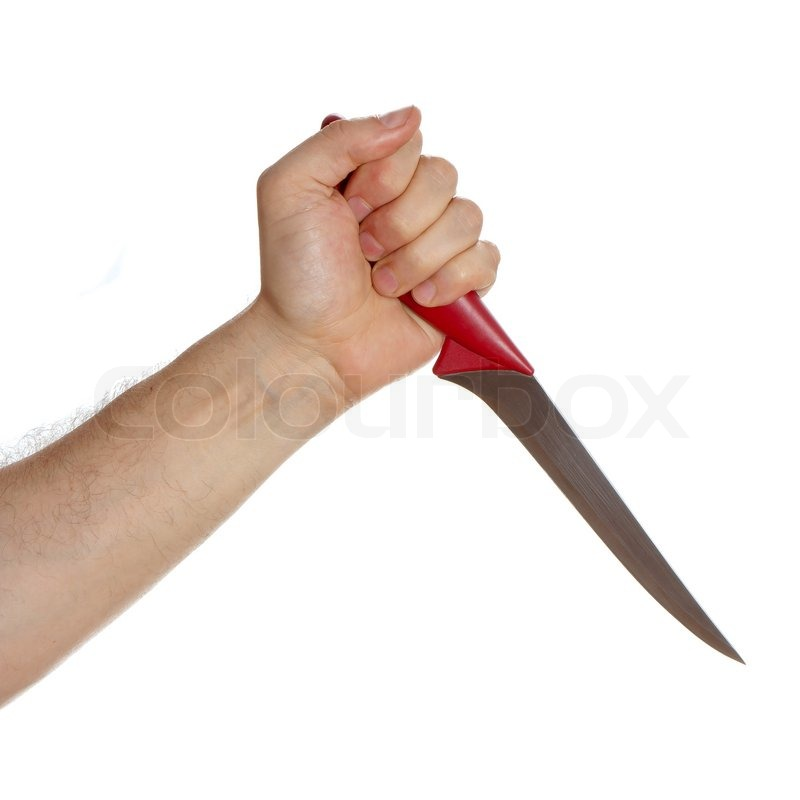knife: (344, 155, 753, 674)
